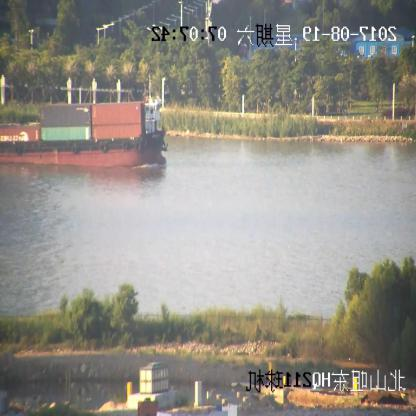Container Ship: (1, 90, 167, 170)
